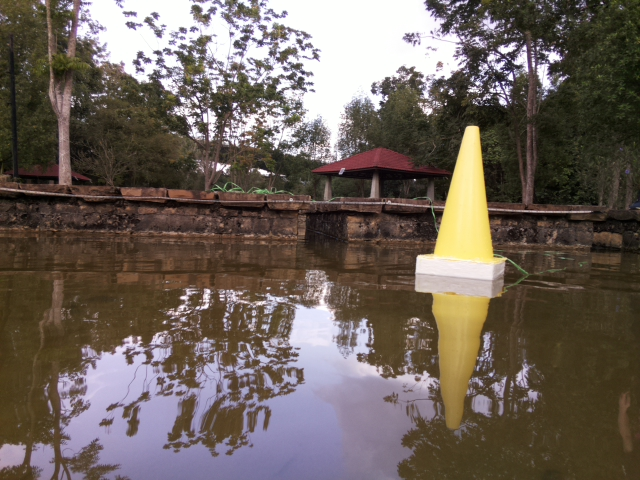checkpoint: (415, 125, 506, 281)
